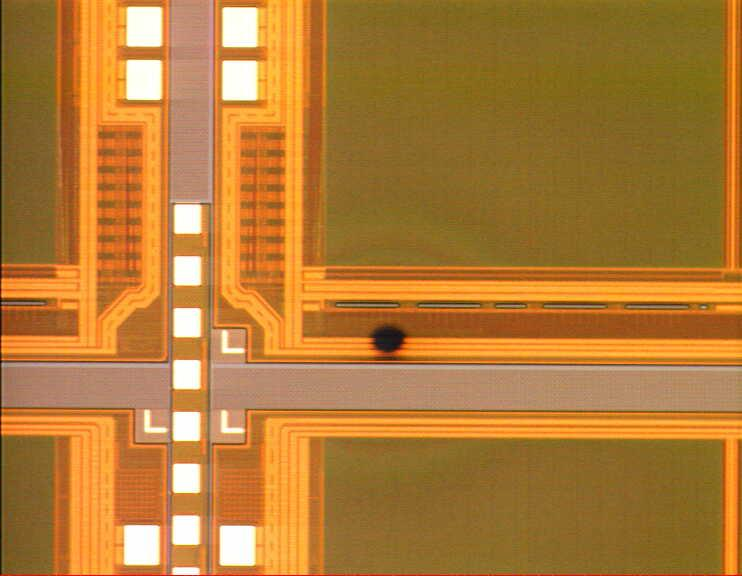PIQ PARTICLE: (366, 317, 410, 361)
